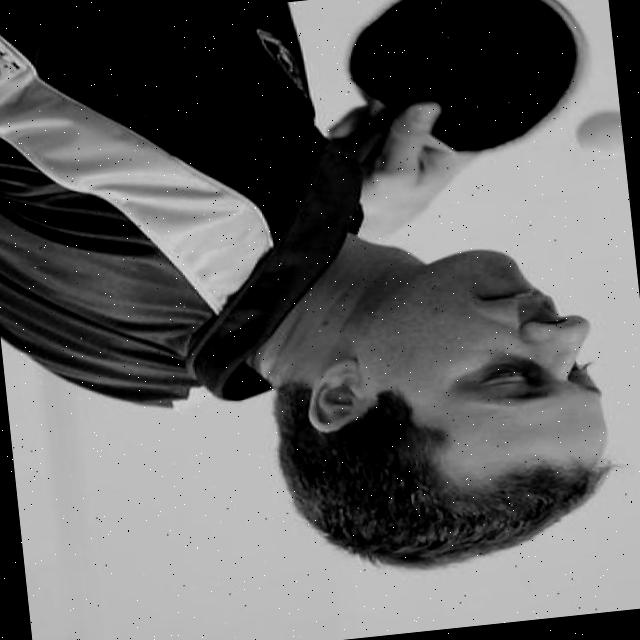ping-pong-ball: (572, 108, 625, 164)
